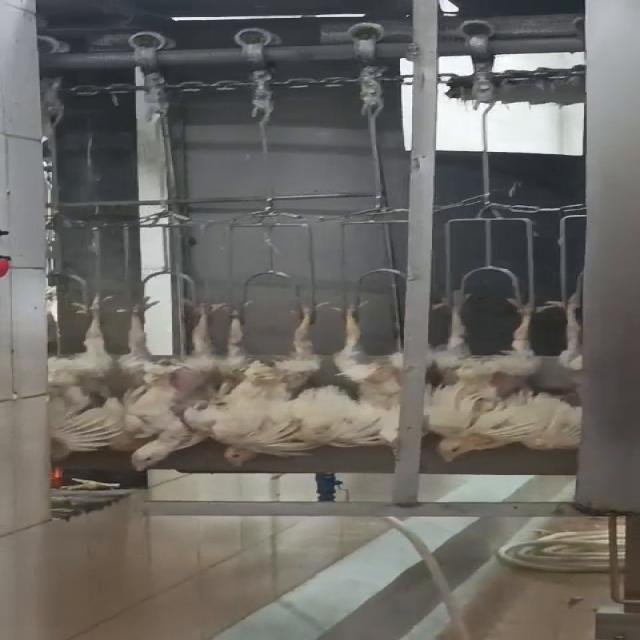chicken: (213, 296, 349, 470), (425, 288, 555, 463), (121, 296, 227, 472), (46, 286, 131, 466), (329, 295, 411, 447), (549, 286, 592, 456)
